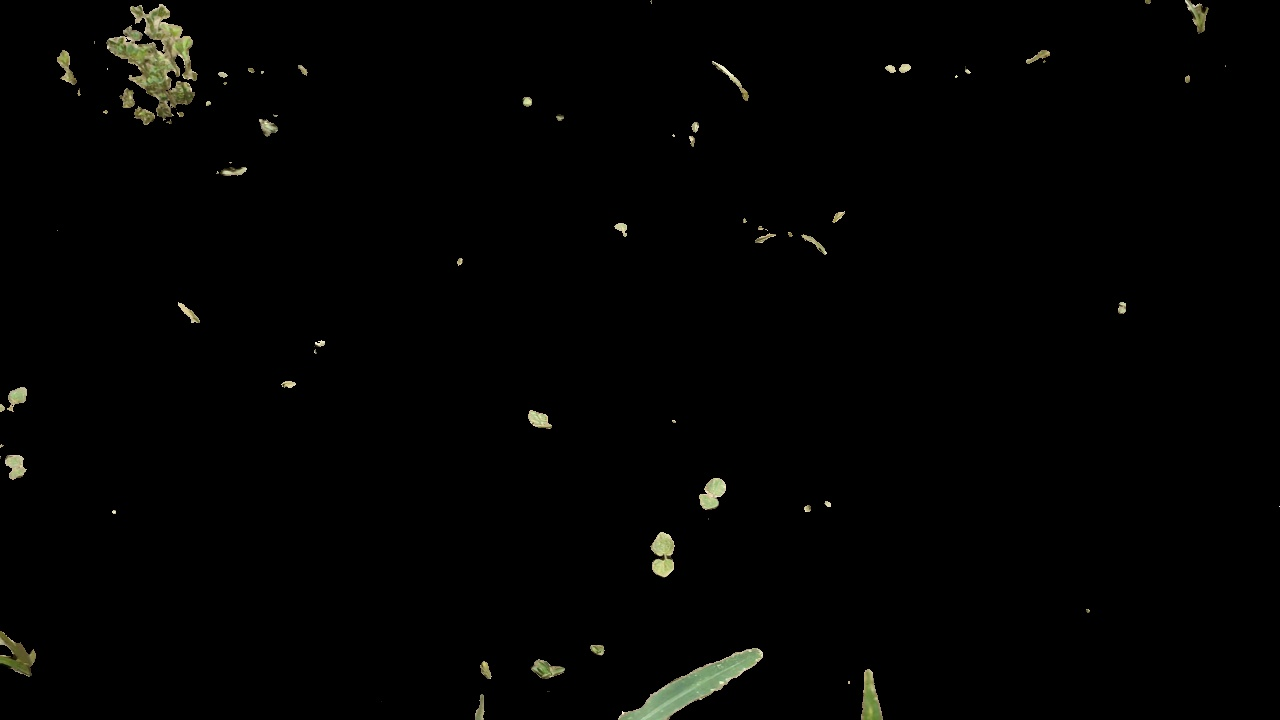crop: (463, 621, 768, 720), (832, 644, 908, 720)
weed: (41, 1, 253, 138), (649, 525, 686, 589), (693, 464, 725, 512), (526, 652, 572, 678), (529, 407, 566, 434), (887, 60, 916, 83), (2, 385, 21, 417), (1, 452, 28, 472)
